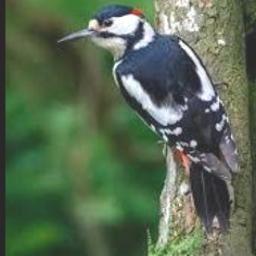Woodpecker: (57, 4, 242, 233)
